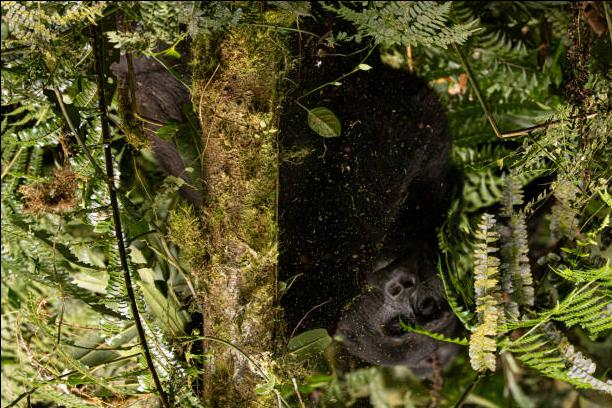goriile_montagne: (246, 35, 469, 390)
